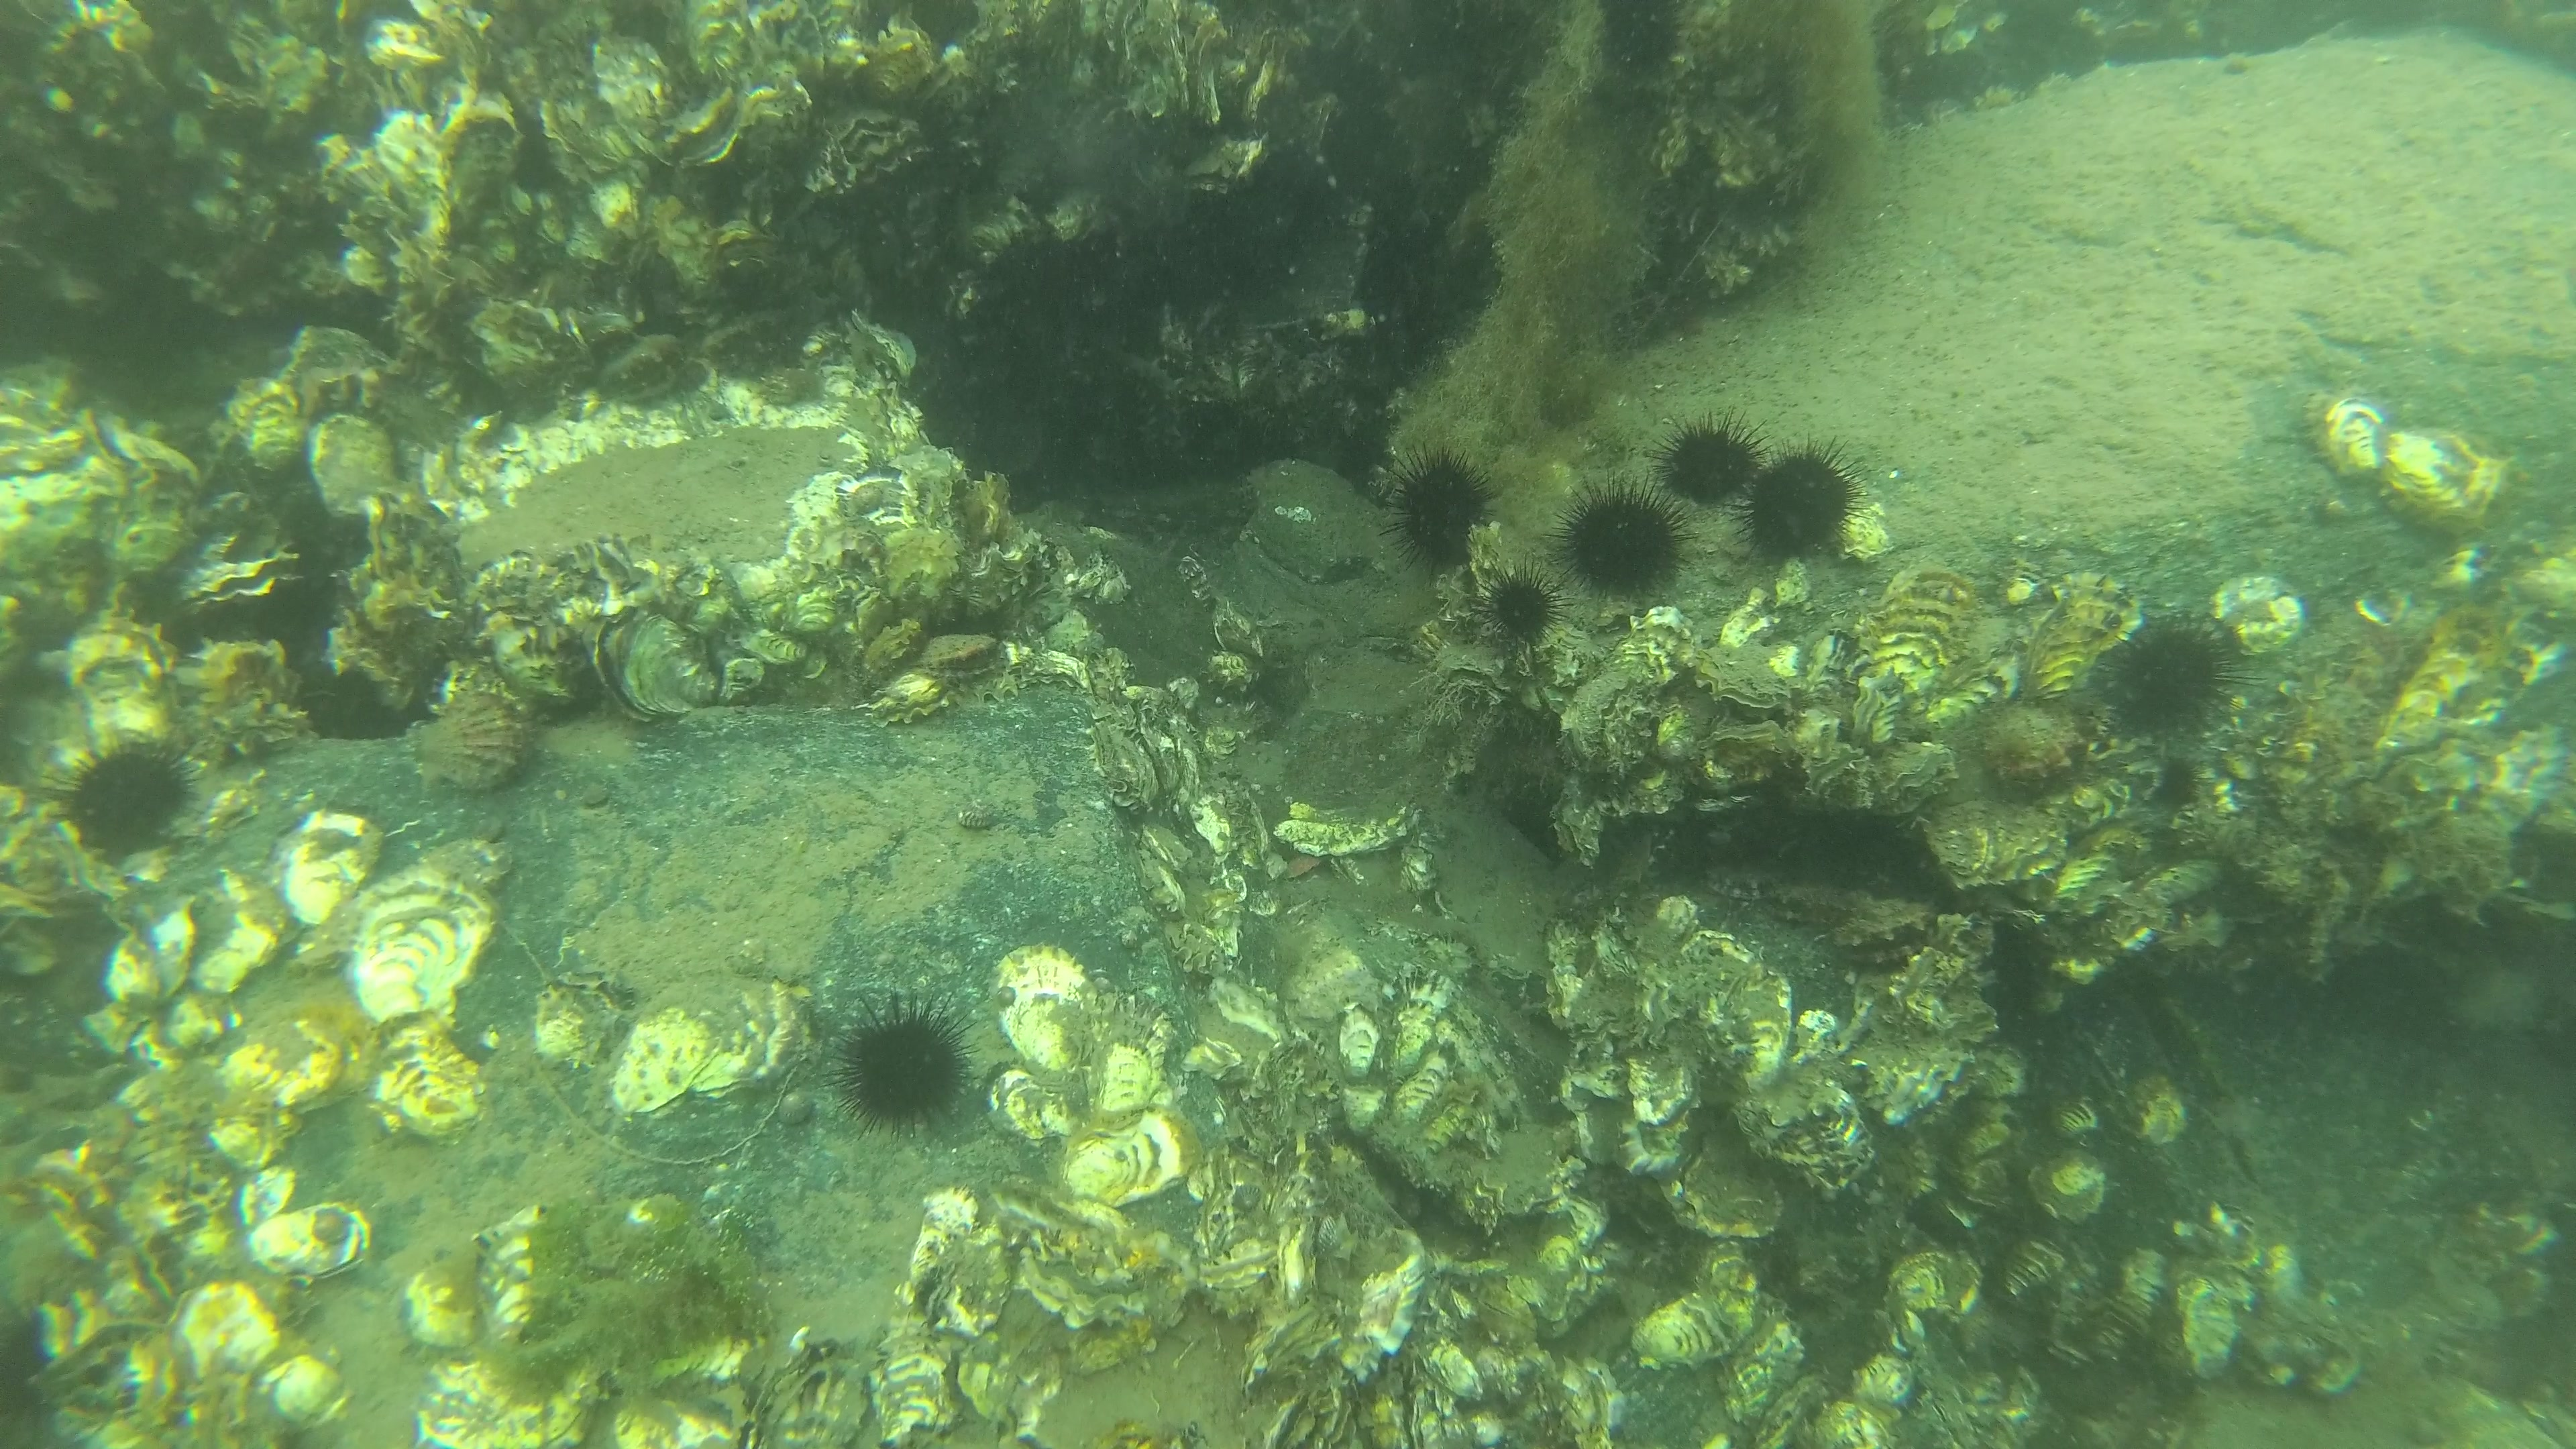echinus: (830, 1000, 978, 1139), (51, 738, 203, 862), (2098, 614, 2245, 736), (1732, 441, 1870, 557), (1555, 483, 1691, 594), (1378, 448, 1502, 568), (1645, 409, 1773, 511), (1468, 559, 1576, 667)
